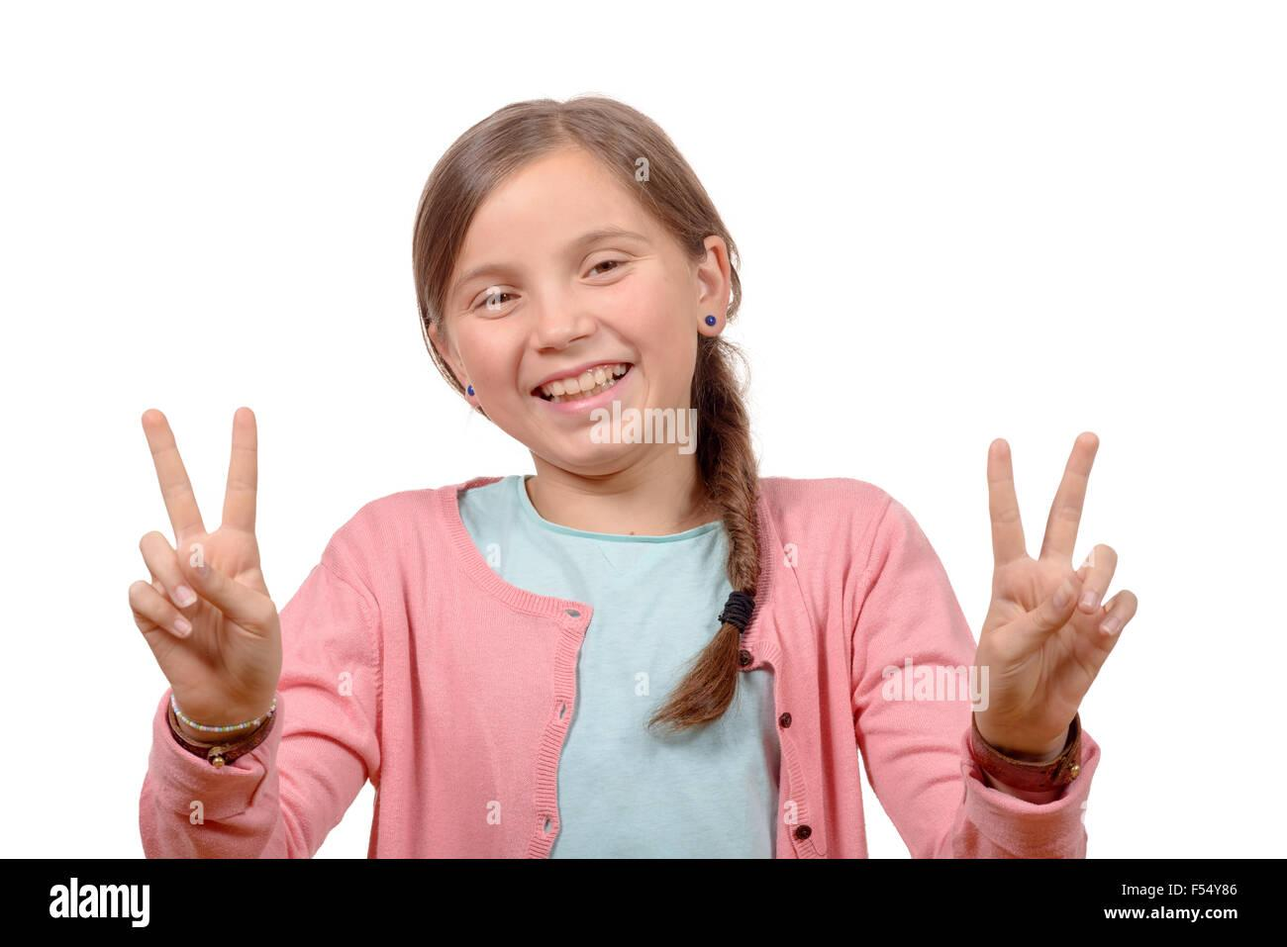peace_sign: (111, 398, 298, 738)
